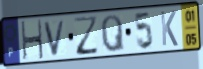5: (133, 10, 154, 51)
H: (19, 18, 45, 62)
K: (159, 10, 179, 48)
Q: (100, 13, 126, 54)
V: (43, 18, 67, 58)
Z: (72, 14, 100, 57)
